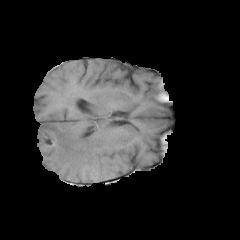glioma: (39, 115, 122, 181)
